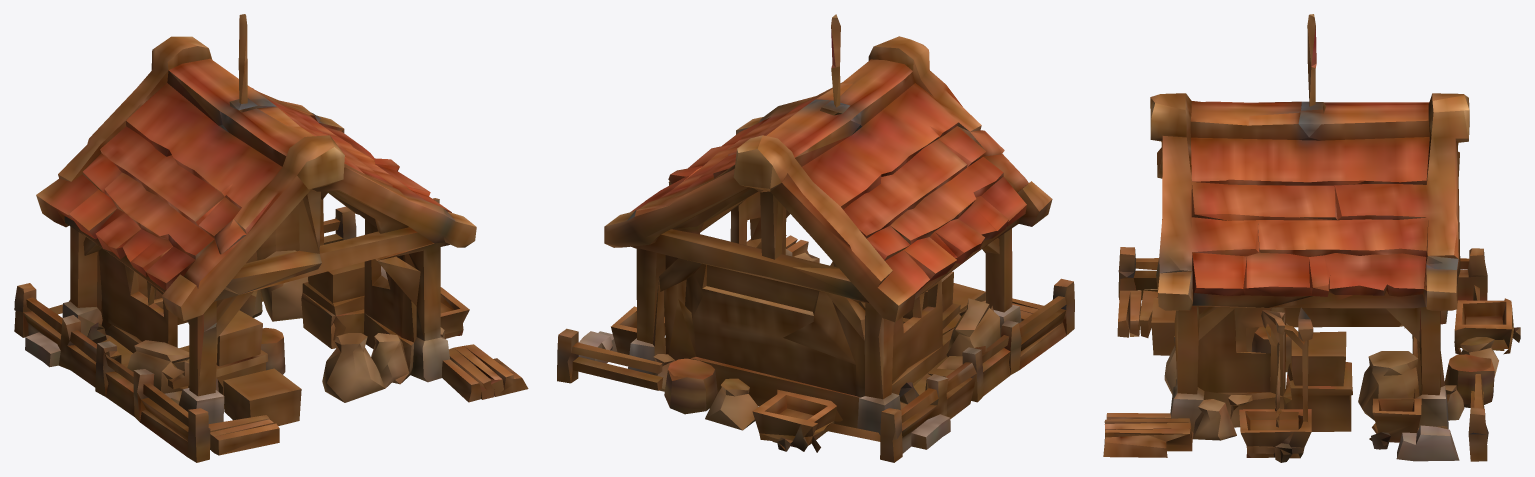
The model's file is storehouse.lod2.glb.
3 views of the same model, side by side, from view 1: azimuth 30°, elevation 25°; view 2: azimuth 150°, elevation 25°; view 3: azimuth 270°, elevation 25° (orthographic). The views are drawn at different scales.
Visible parts, largest first — view 1: storehouse.lod2_uv; view 2: storehouse.lod2_uv; view 3: storehouse.lod2_uv.
Boxes of the visible parts, box(x1,y1,x2,y2) form: storehouse.lod2_uv: box(14, 14, 528, 462); storehouse.lod2_uv: box(557, 14, 1074, 462); storehouse.lod2_uv: box(1103, 14, 1520, 462).
Bounding box in the file's own units: 1.86 × 1.76 × 1.88.
1 material, 1 textured.
